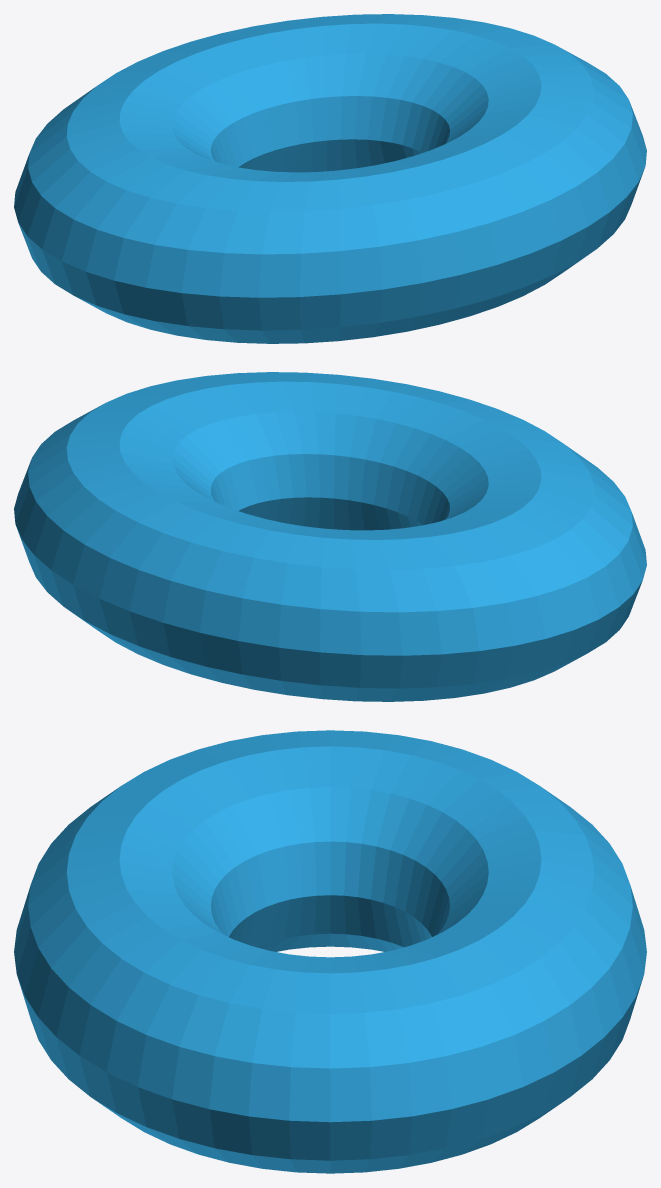
The model's file is bluedonut.gltf.
The picture shows the model from 3 angles, top to bottom: view 1: azimuth 30°, elevation 25°; view 2: azimuth 150°, elevation 25°; view 3: azimuth 270°, elevation 25°; orthographic projection. The views are drawn at different scales.
Visible parts, largest first — view 1: Torus; view 2: Torus; view 3: Torus.
Boxes of the visible parts, left/top/right/bottom form: Torus: left=14, top=14, right=646, bottom=343; Torus: left=14, top=372, right=646, bottom=701; Torus: left=14, top=730, right=646, bottom=1173.
Bounding box in the file's own units: 0.042 × 0.0106 × 0.033.
